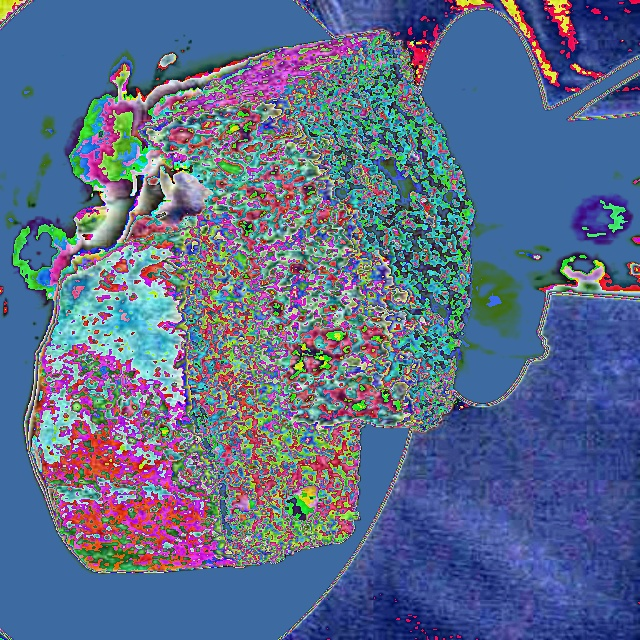background: (34, 28, 551, 574)
